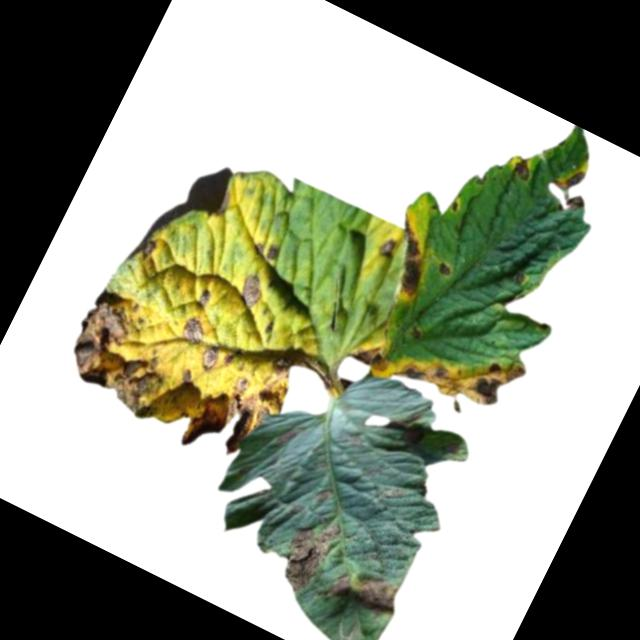Early_blight: (53, 282, 198, 425), (390, 310, 531, 430), (173, 348, 293, 479), (316, 552, 408, 629), (271, 509, 345, 600), (372, 213, 446, 301), (267, 337, 343, 397), (546, 160, 597, 214), (349, 332, 396, 377), (230, 268, 271, 312), (176, 315, 209, 348), (506, 153, 538, 185), (374, 234, 401, 263), (196, 344, 221, 373), (193, 282, 214, 310), (435, 255, 457, 279), (138, 239, 159, 261), (262, 241, 282, 263), (448, 195, 464, 214)
